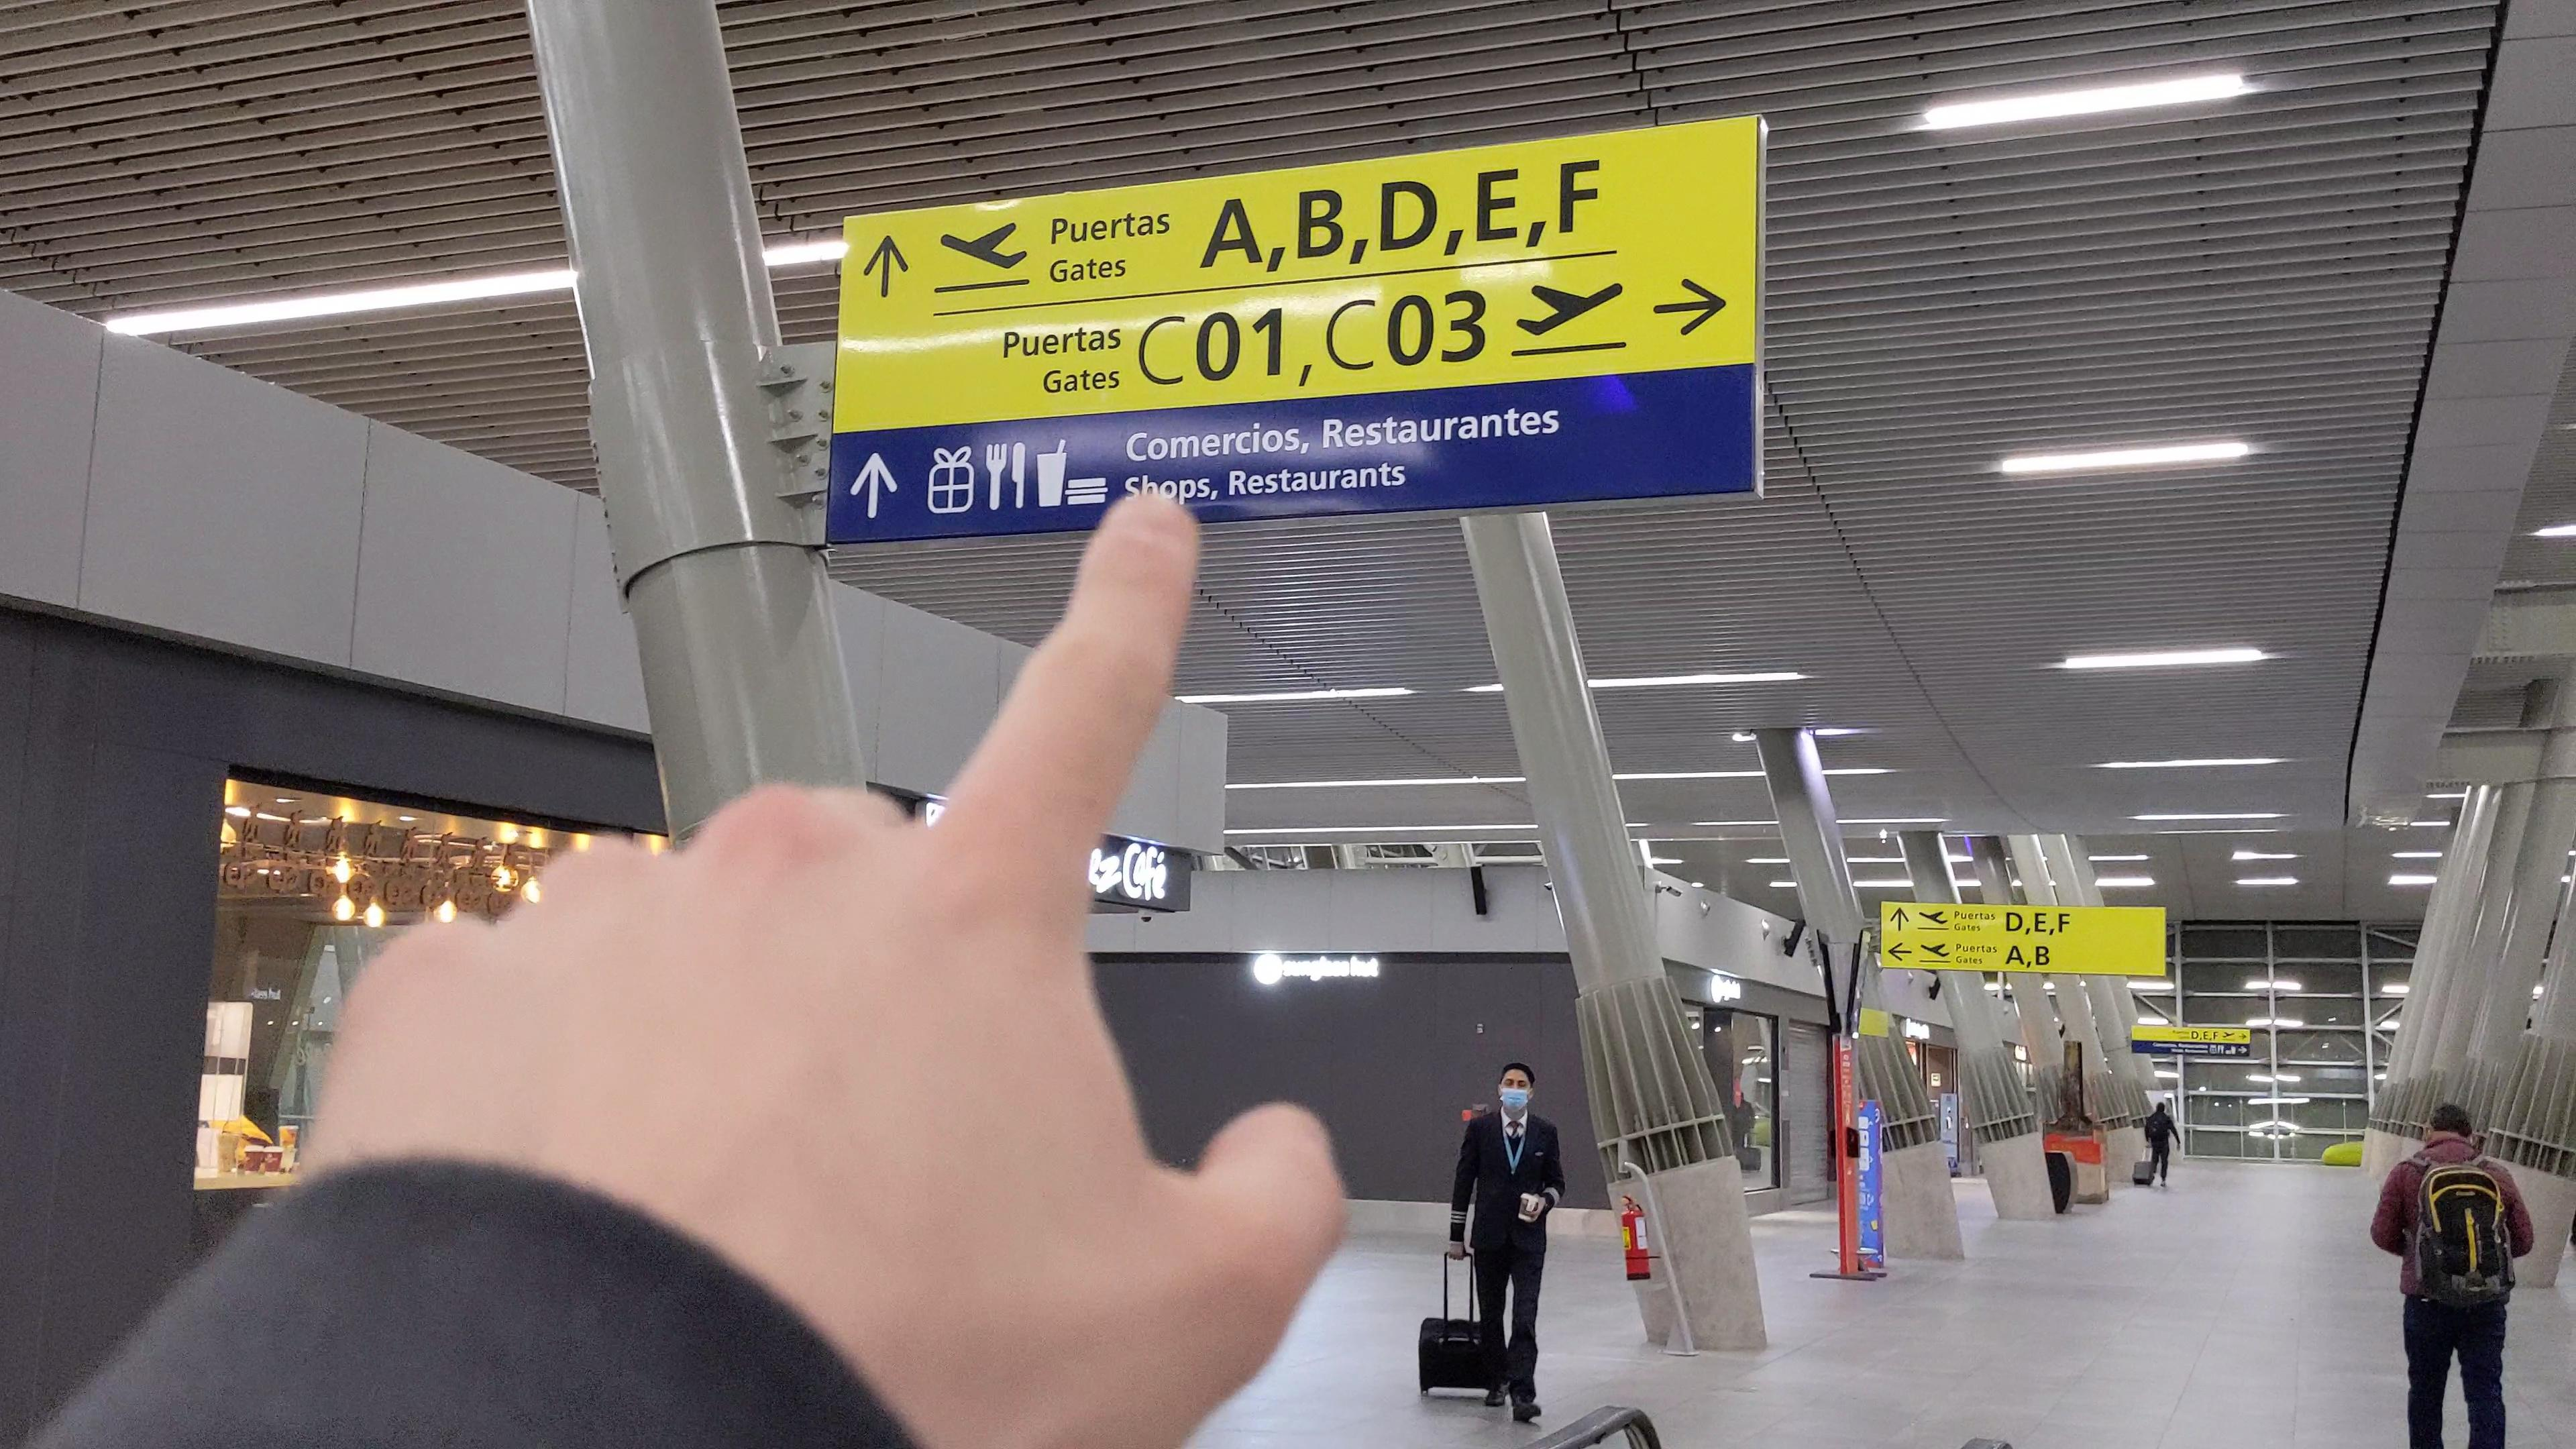airplane symbol: (1513, 281, 1626, 340), (936, 219, 1030, 274), (1918, 939, 1951, 959), (1918, 908, 1950, 925), (2222, 1031, 2235, 1039)
fire-extinguisher: (1614, 1194, 1656, 1284)
restaurants: (984, 441, 1028, 513)
thin left arrow: (1886, 941, 1914, 964)
thin right arrow: (1647, 274, 1730, 340)
thin up arrow: (846, 451, 899, 522), (860, 232, 913, 301), (1888, 906, 1911, 934)
